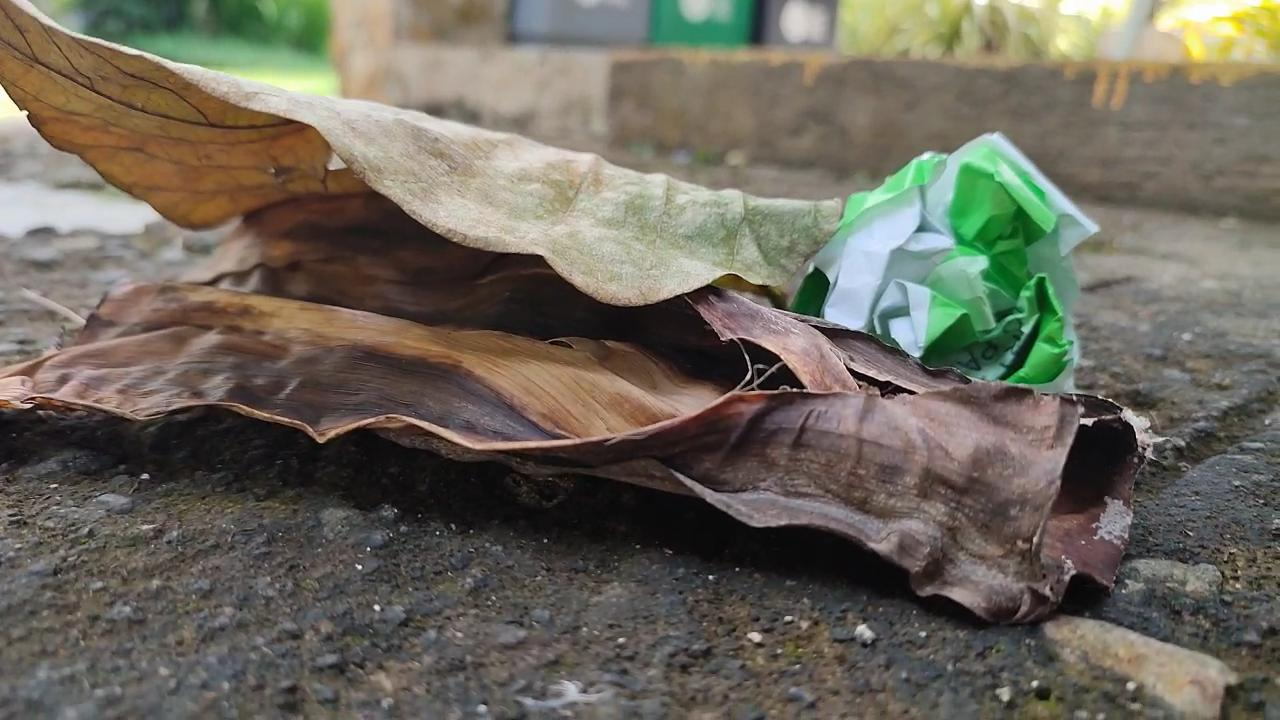Paper: (812, 110, 1101, 394)
